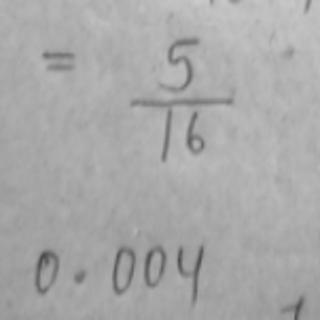.: (70, 267, 88, 288)
0: (111, 247, 136, 297), (35, 248, 60, 297), (146, 245, 163, 288)
1: (150, 104, 181, 168)
4: (172, 245, 208, 308)
5: (146, 34, 208, 98)
6: (179, 105, 213, 165)
